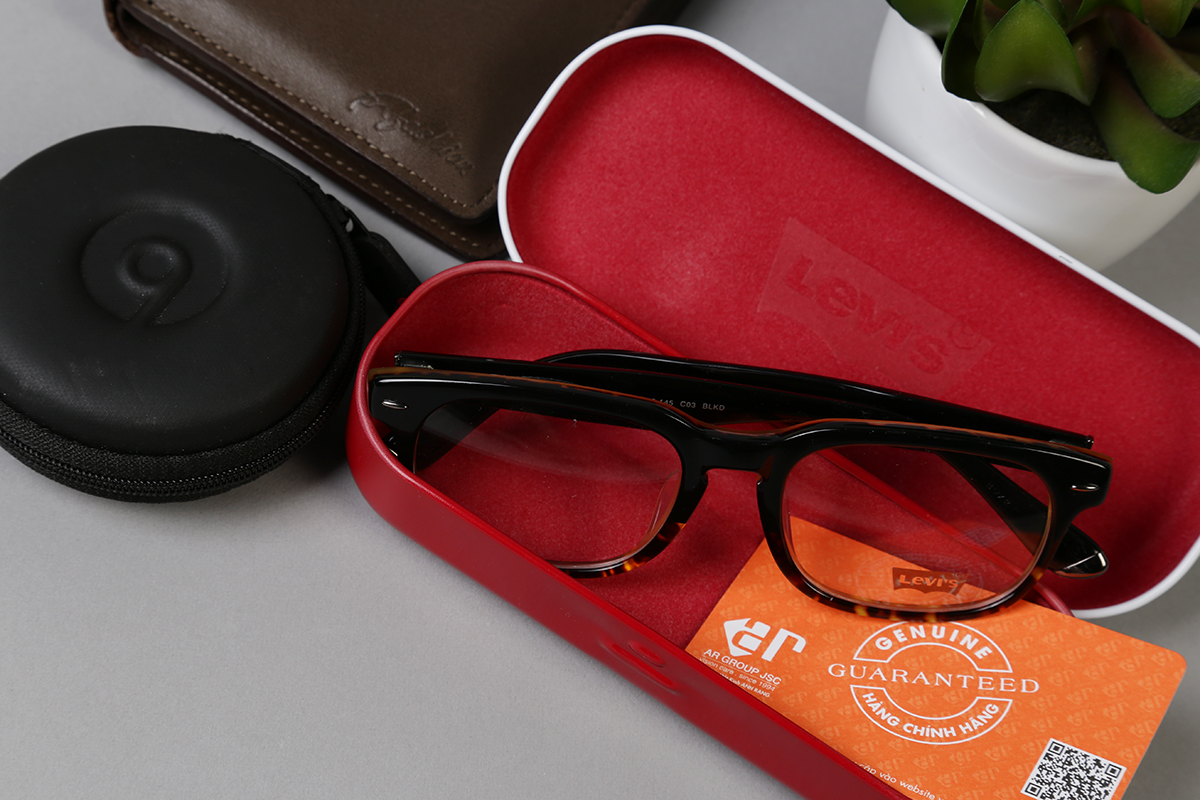Levi's: (886, 553, 976, 601)
